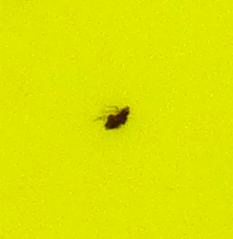Brachycera: (100, 100, 133, 139)
